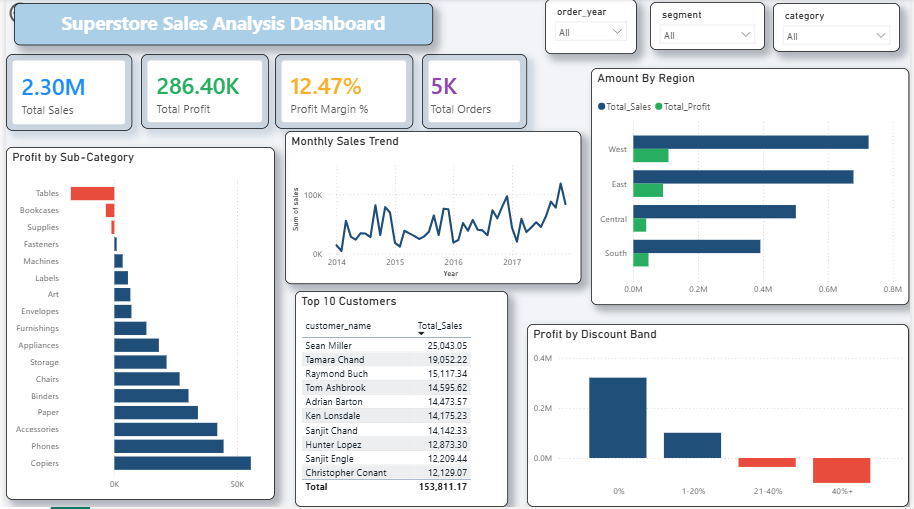

What the dashboard file says about the page in this screenshot:
{"tool":"powerbi","page":{"name":"Page 1","canvas":[1280,720],"ordinal":0},"visuals":[{"type":"cardVisual","fields":{"Data":["public store.Total_Sales"]},"box":[0,78,178.6,109.1],"z":0},{"type":"cardVisual","fields":{"Data":["public store.Total_Profit"]},"box":[191.3,78,181.4,106.3],"z":1000},{"type":"cardVisual","fields":{"Data":["public store.Profit_Margine%"]},"box":[381.3,78,195.6,106.3],"z":2000},{"type":"cardVisual","fields":{"Data":["public store.Total_Order"]},"box":[589.6,78,148.8,106.3],"z":3000},{"type":"lineChart","title":"Monthly Sales Trend","fields":{"Y":["Sum(public store.sales)"],"Category":["public store.order_date.Variation.Date Hierarchy.Year","public store.order_date.Variation.Date Hierarchy.Month"]},"box":[395.4,197,419.5,226.8],"z":4000},{"type":"clusteredBarChart","title":"Sales and Profit By Region","fields":{"Category":["public store.region"],"Y":["public store.Total_Sales","public store.Total_Profit"]},"box":[829.1,97.8,450.7,335.9],"z":5000},{"type":"clusteredBarChart","title":"Profit by Sub-Category","fields":{"Category":["public store.sub_category"],"Y":["public store.Total_Profit"]},"box":[0,209.8,381.3,500.3],"z":6000},{"type":"actionButton","box":[0,0,100,40],"z":7000},{"type":"clusteredColumnChart","title":"Profit by Discount Band","fields":{"Category":["public store.Discount Band"],"Y":["public store.Total_Profit"]},"box":[738.4,460.6,541.4,259.4],"z":8000},{"type":"tableEx","title":"Top 10 Customers","fields":{"Values":["public store.customer_name","public store.Total_Sales"]},"box":[409.6,433.7,301.9,286.3],"z":9000},{"type":"slicer","fields":{"Values":["public store.order_year"]},"box":[764.6,0,129.6,77.8],"z":10000},{"type":"slicer","fields":{"Values":["public store.segment"]},"box":[913,4.3,162.7,67.7],"z":11000},{"type":"slicer","fields":{"Values":["public store.category"]},"box":[1087.2,5.8,180,69.1],"z":12000},{"type":"textbox","box":[11.3,5.7,593.9,59.5],"z":13000}]}

Visuals, with their boxes in screenshot pixels (x1, y1, x2, y2), scaled from the page's 1280x720 canvas onto the 914x509 screenshot:
cardVisual - public store.Total_Sales: (x1=0, y1=55, x2=128, y2=132)
cardVisual - public store.Total_Profit: (x1=137, y1=55, x2=266, y2=130)
cardVisual - public store.Profit_Margine%: (x1=272, y1=55, x2=412, y2=130)
cardVisual - public store.Total_Order: (x1=421, y1=55, x2=527, y2=130)
"Monthly Sales Trend" lineChart: (x1=282, y1=139, x2=582, y2=300)
"Sales and Profit By Region" clusteredBarChart: (x1=592, y1=69, x2=913, y2=307)
"Profit by Sub-Category" clusteredBarChart: (x1=0, y1=148, x2=272, y2=502)
actionButton: (x1=0, y1=0, x2=71, y2=28)
"Profit by Discount Band" clusteredColumnChart: (x1=527, y1=326, x2=913, y2=508)
"Top 10 Customers" tableEx: (x1=292, y1=307, x2=508, y2=508)
slicer - public store.order_year: (x1=546, y1=0, x2=639, y2=55)
slicer - public store.segment: (x1=652, y1=3, x2=768, y2=51)
slicer - public store.category: (x1=776, y1=4, x2=905, y2=53)
textbox: (x1=8, y1=4, x2=432, y2=46)
